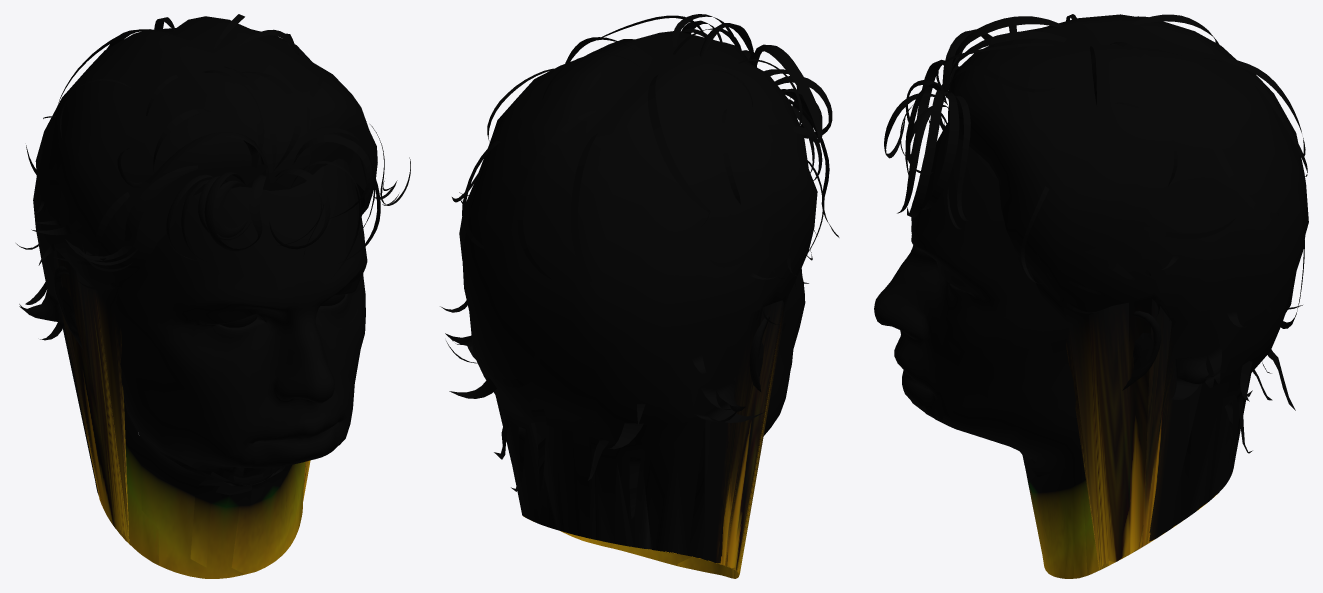
The model's file is MEL_32.glb.
3 views of the same model, side by side, from view 1: azimuth 30°, elevation 25°; view 2: azimuth 150°, elevation 25°; view 3: azimuth 270°, elevation 25° (orthographic). The views are drawn at different scales.
Parts seen in each view (by area): view 1: tripo_node_dafe9a0a-6ce0-41a6-be87-8ec18b5dfdce; view 2: tripo_node_dafe9a0a-6ce0-41a6-be87-8ec18b5dfdce; view 3: tripo_node_dafe9a0a-6ce0-41a6-be87-8ec18b5dfdce.
Boxes of the visible parts, x1=… form: tripo_node_dafe9a0a-6ce0-41a6-be87-8ec18b5dfdce: x1=16, y1=14, x2=410, y2=578; tripo_node_dafe9a0a-6ce0-41a6-be87-8ec18b5dfdce: x1=440, y1=14, x2=839, y2=578; tripo_node_dafe9a0a-6ce0-41a6-be87-8ec18b5dfdce: x1=874, y1=14, x2=1308, y2=578.
Size of the model in its own units: 0.2319 by 0.3421 by 0.2542.
1 material, 1 textured.
